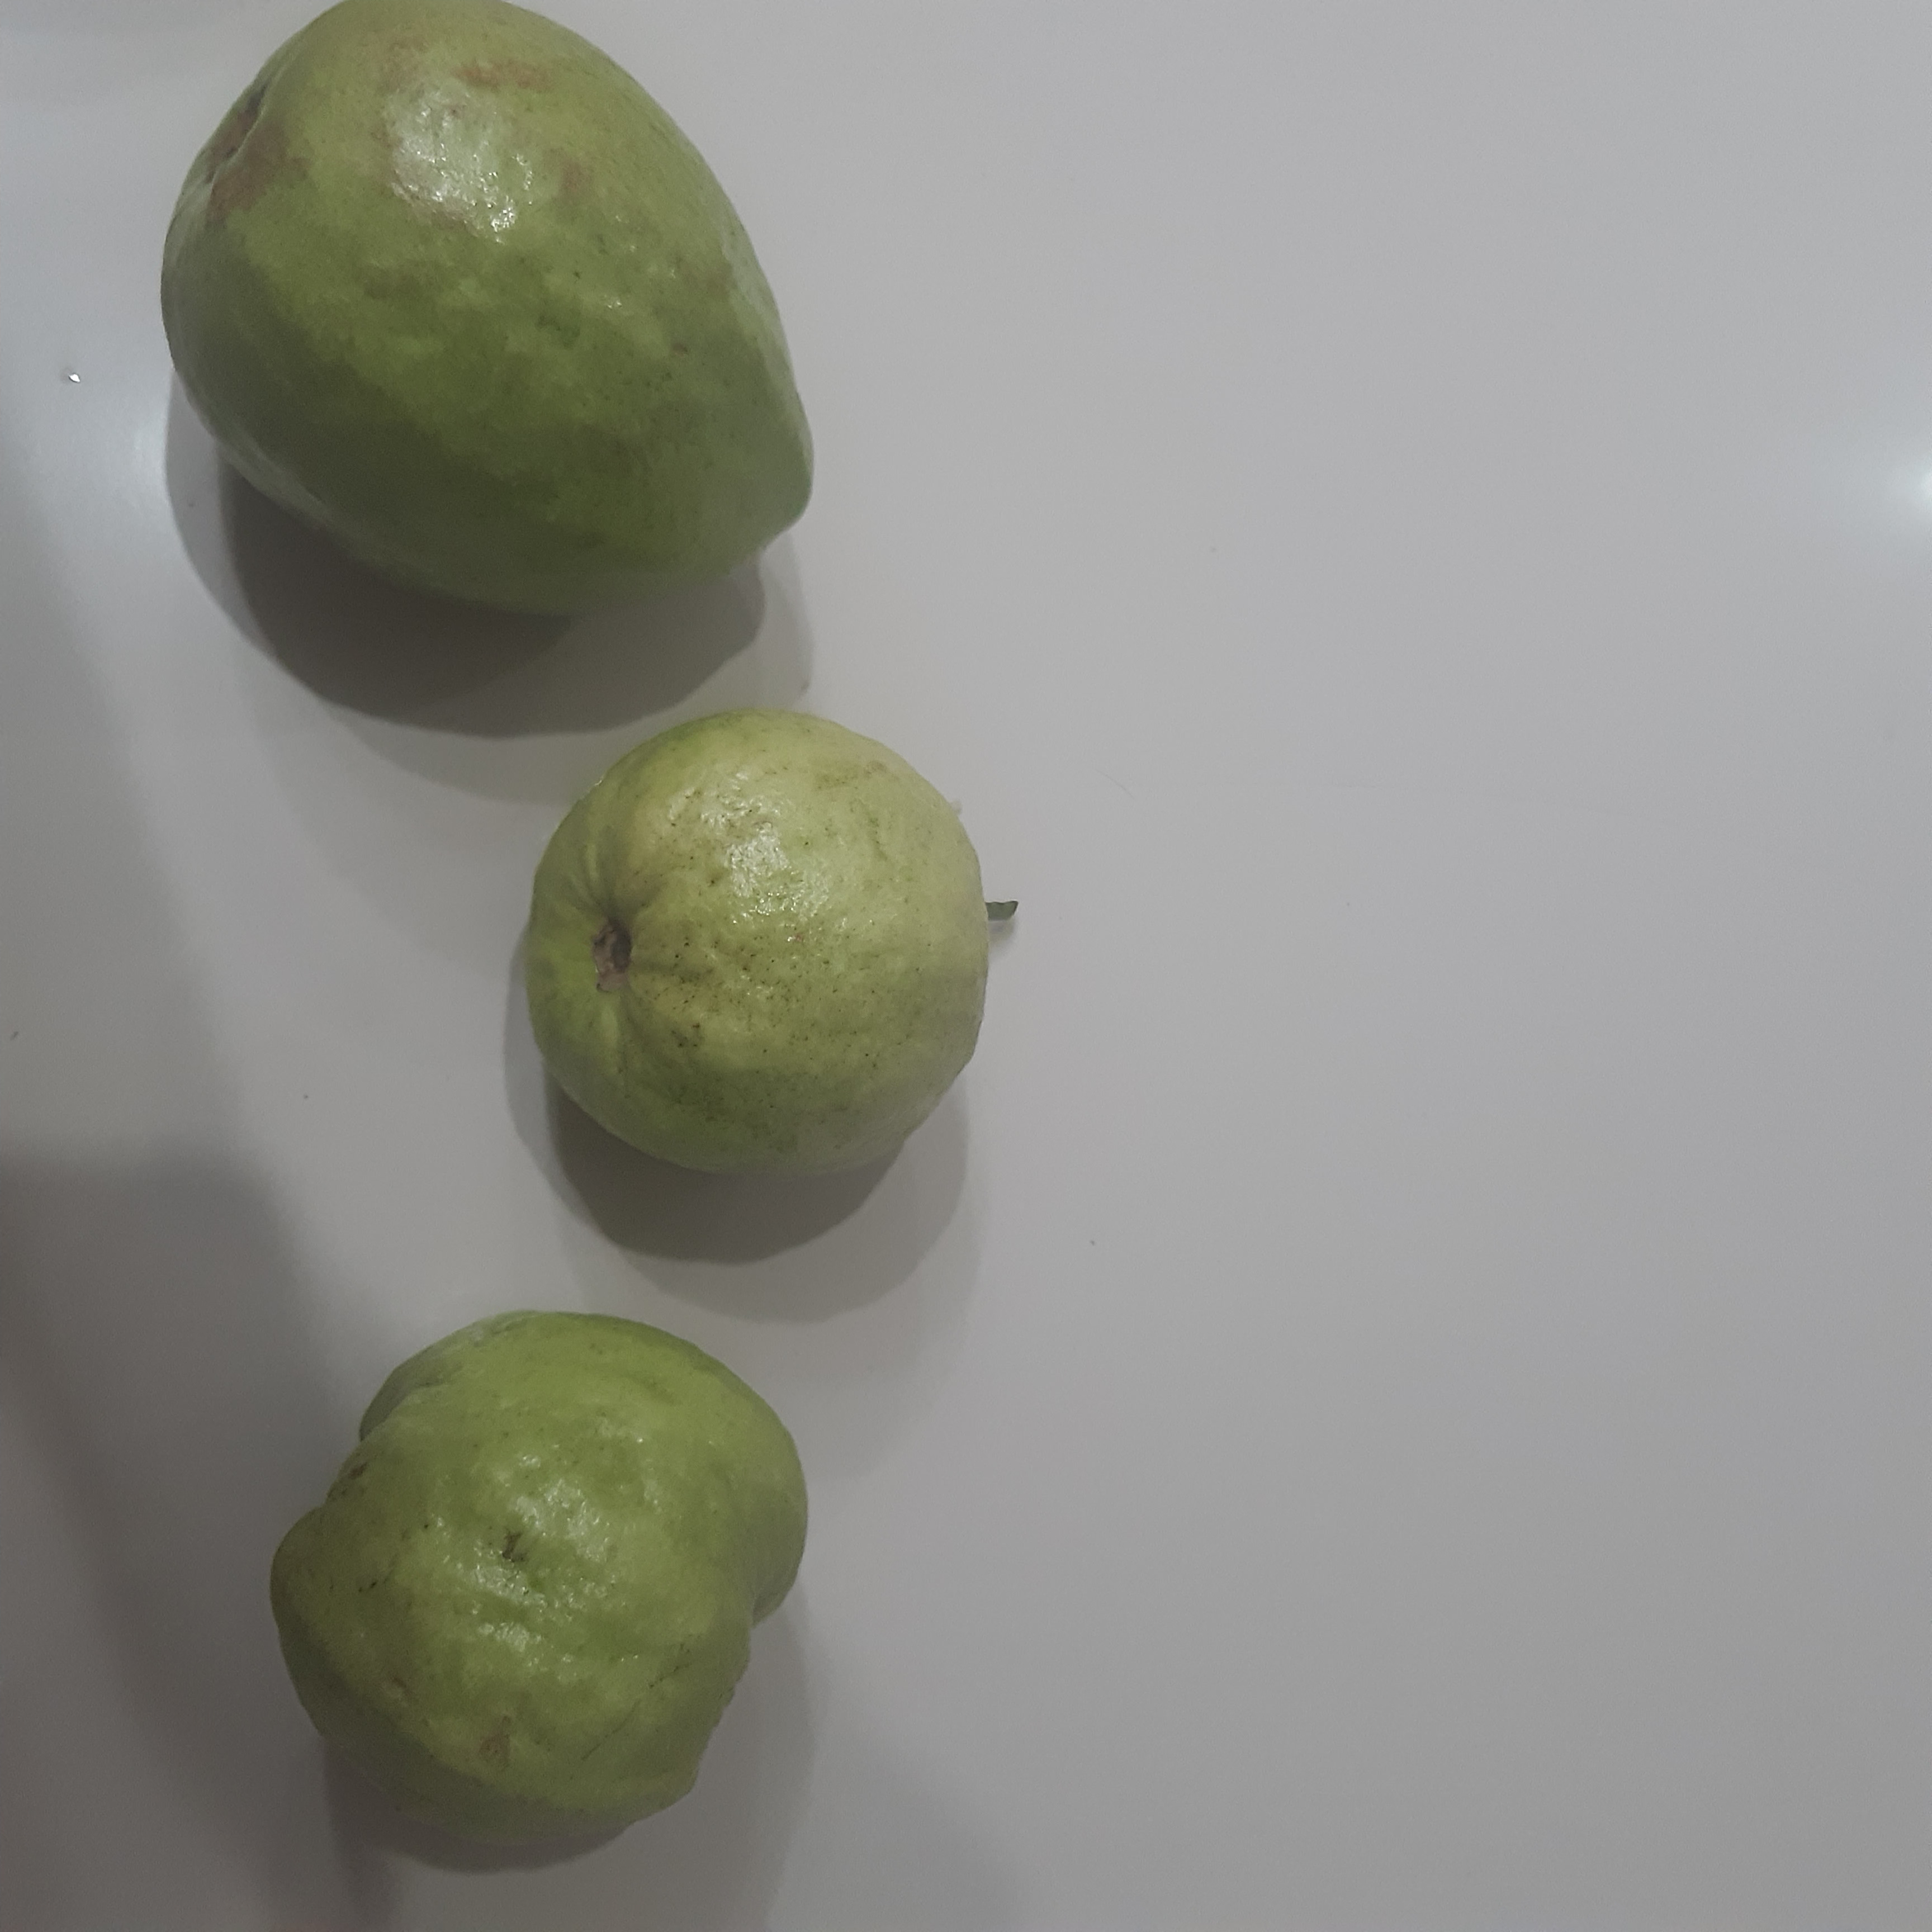Oi: (162, 0, 813, 614), (267, 1311, 808, 1848), (523, 712, 987, 1177)
